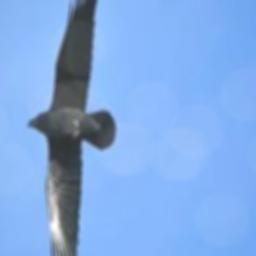Crow: (27, 0, 117, 256)
